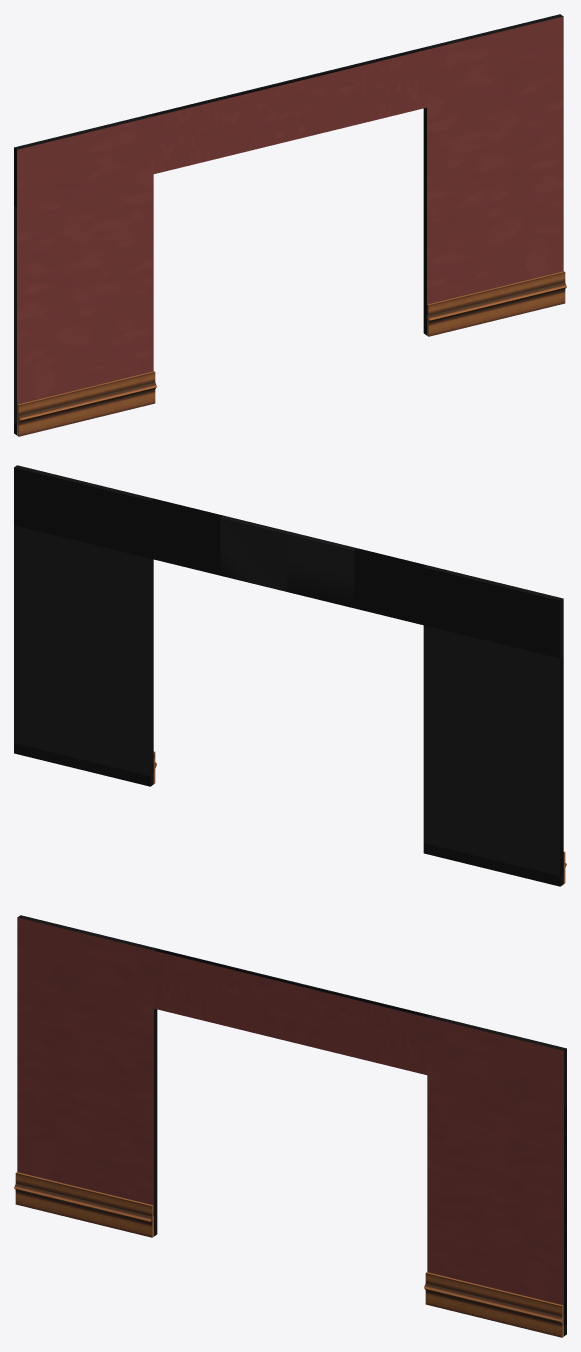
File: Doorway_DW_D.FBX
3 renders of one model, top to bottom at view 1: azimuth 30°, elevation 25°; view 2: azimuth 150°, elevation 25°; view 3: azimuth 330°, elevation 25°, orthographic.
Visible parts, largest first — view 1: Wall_Doorway_10m; view 2: Wall_Doorway_10m; view 3: Wall_Doorway_10m.
Boxes of the visible parts, <box> form: Wall_Doorway_10m: <box>14,14,566,436</box>; Wall_Doorway_10m: <box>14,465,566,886</box>; Wall_Doorway_10m: <box>14,915,566,1337</box>.
Size of the model in its own units: 1000 by 500 by 20.82.
